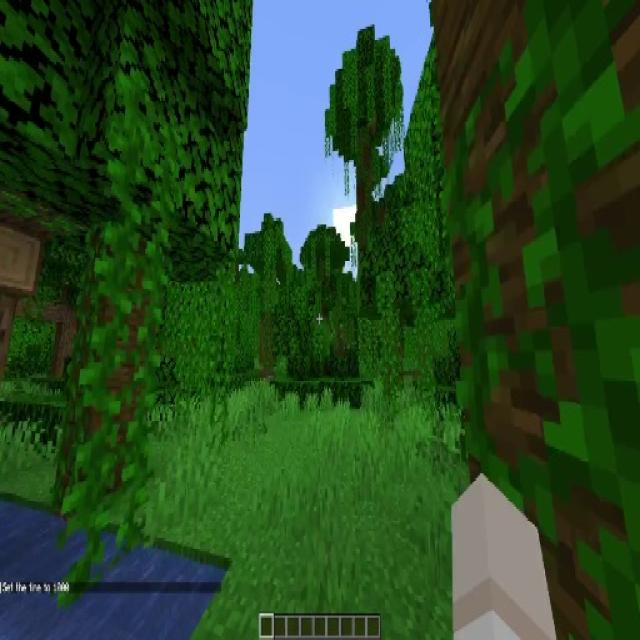jungle: (326, 24, 409, 327)
jungle_log: (434, 1, 640, 498), (61, 216, 171, 504)
